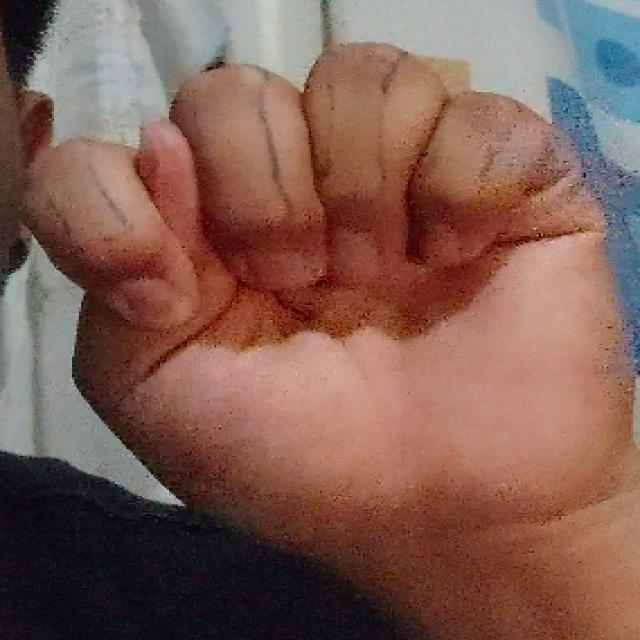T: (12, 31, 638, 555)
